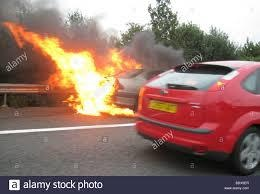fire: (5, 17, 134, 120)
